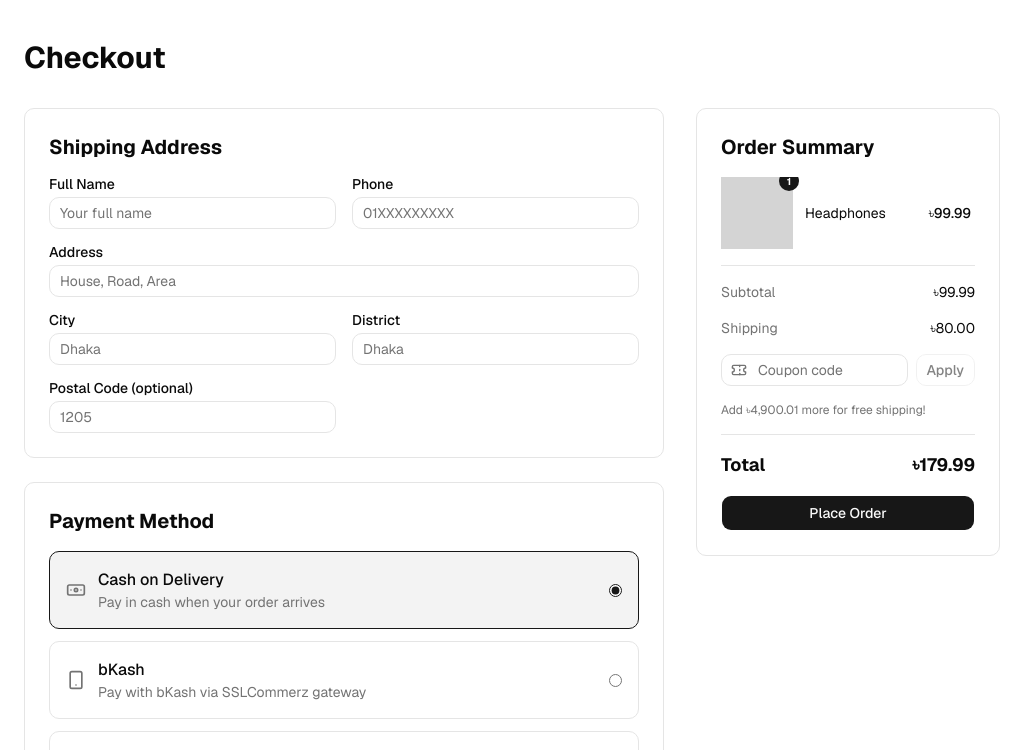
CheckoutPage coupon input › applies a valid coupon and shows the discount
The width and height of the screenshot is (1024, 750).
Step 1. Type "save10" into the field with placeholder "Coupon code" → x=814, y=370, box [721, 354, 908, 386]
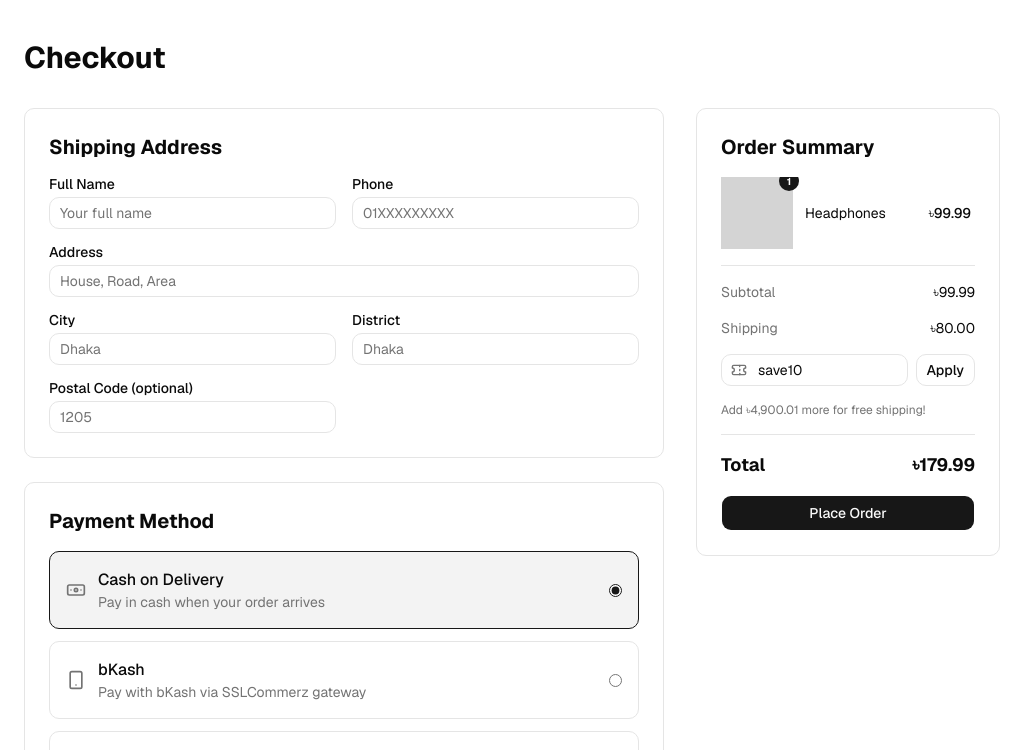
Step 2. Click the button "Apply" → x=945, y=370, box [916, 354, 975, 386]
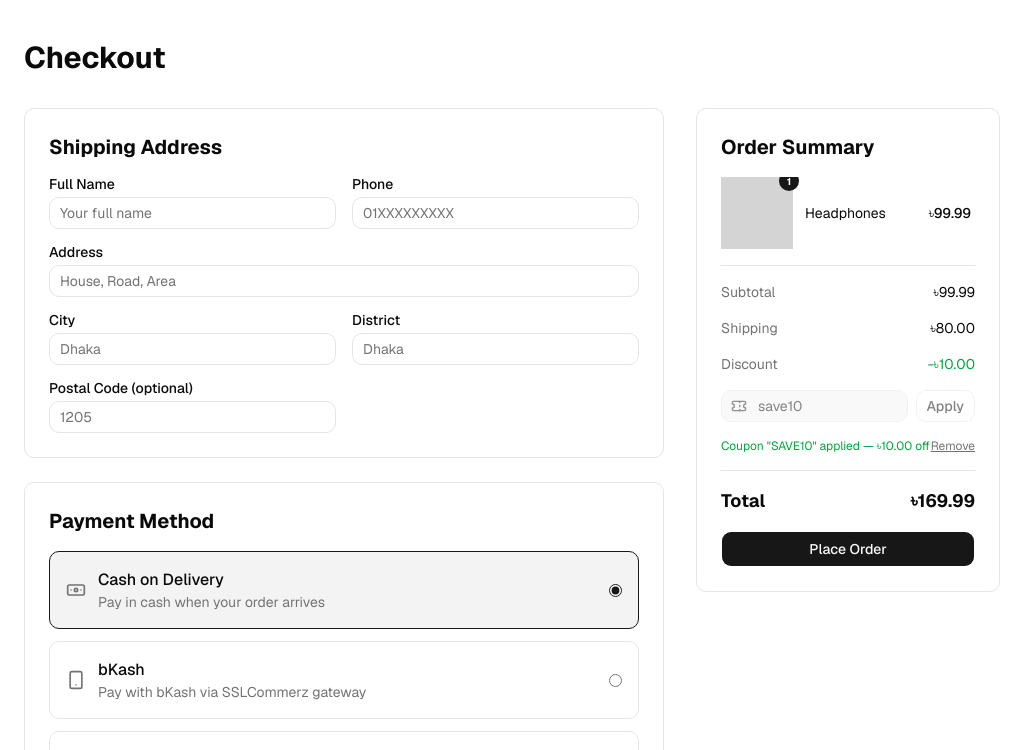
Now the text "Coupon \"SAVE10\" applied — ৳10.00 off" is shown, box [721, 438, 930, 454]
Now the text "-৳10.00" is shown, box [928, 354, 975, 374]
